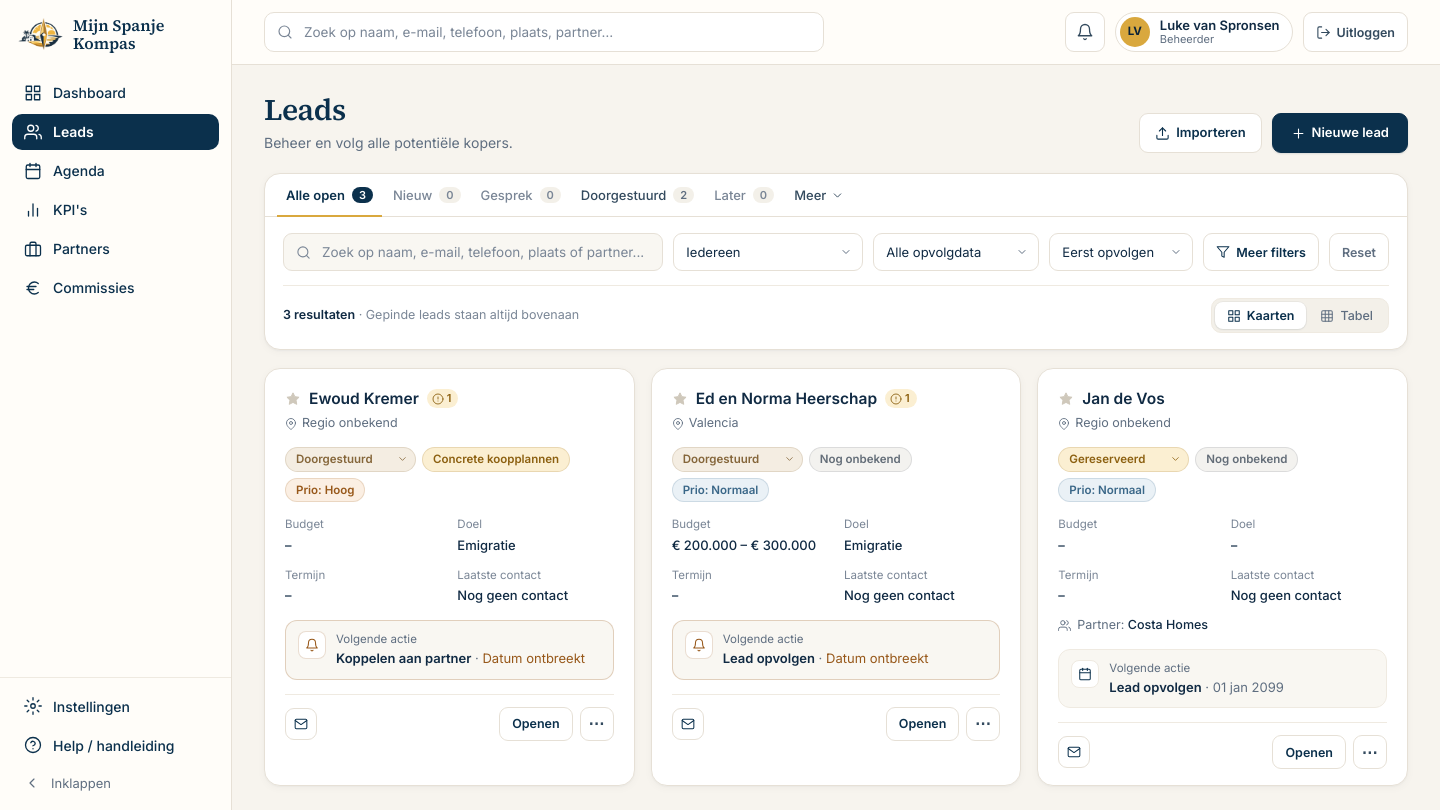
Test: Aankoop afgerond: vastleggen en terugzien onder Commissies
Click the button named "Meer acties voor Jan de Vos".
click(1370, 752)  # box x1=1353 y1=735 x2=1387 y2=769
(page scrolled)
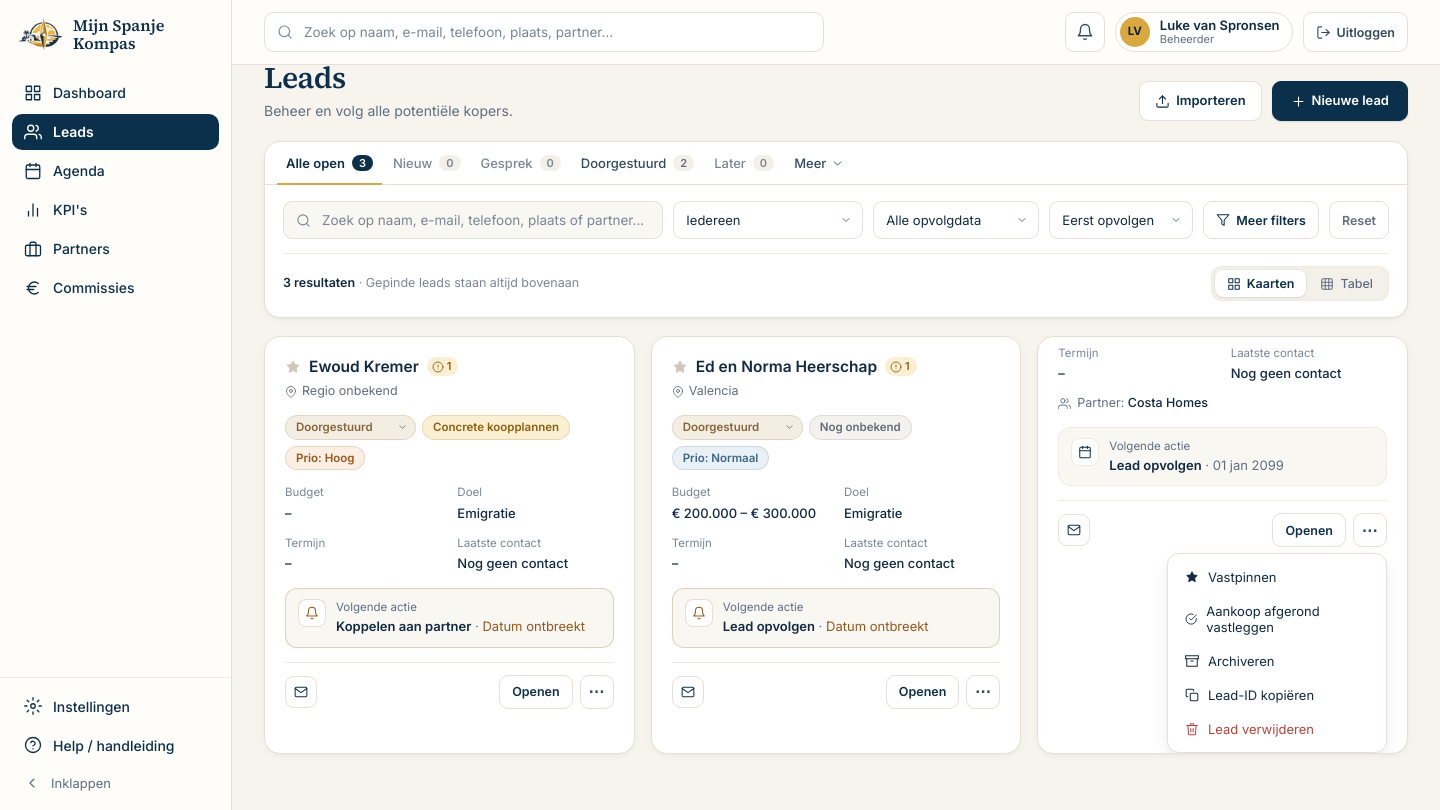
Click the menu item "Aankoop afgerond vastleggen".
click(1277, 619)  # box x1=1174 y1=594 x2=1380 y2=644
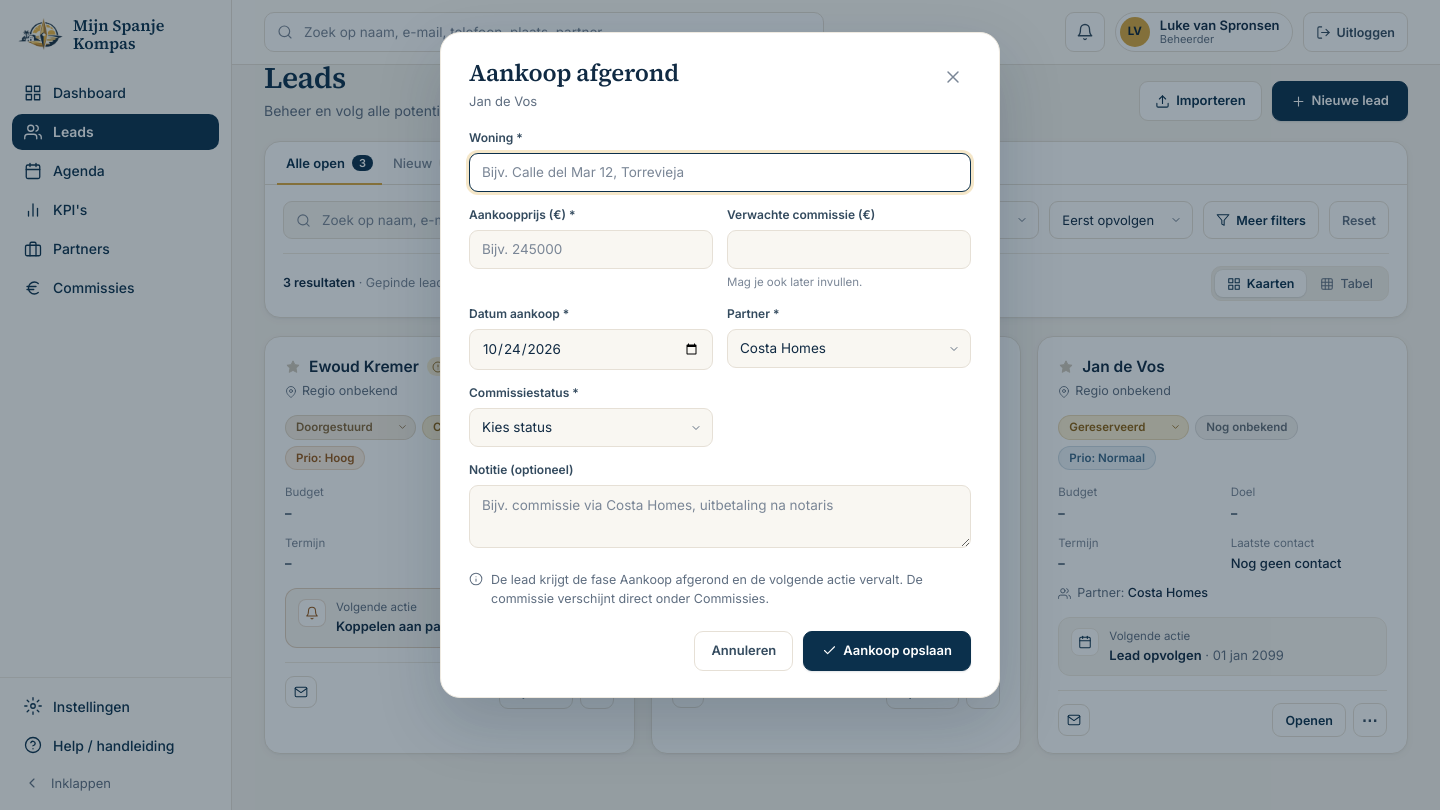
Type "Calle del Mar 12" into the field with placeholder "Bijv. Calle del Mar 12, Torrevieja".
click(720, 173); type("Calle del Mar 12")  # box x1=469 y1=153 x2=971 y2=192
Type "250000" into the number field with placeholder "Bijv. 245000".
click(591, 250); type("250000")  # box x1=469 y1=230 x2=713 y2=269
Select "Verwacht" in the dropdown below "Commissiestatus *" at x=591, y=428, box x1=469 y1=408 x2=713 y2=447
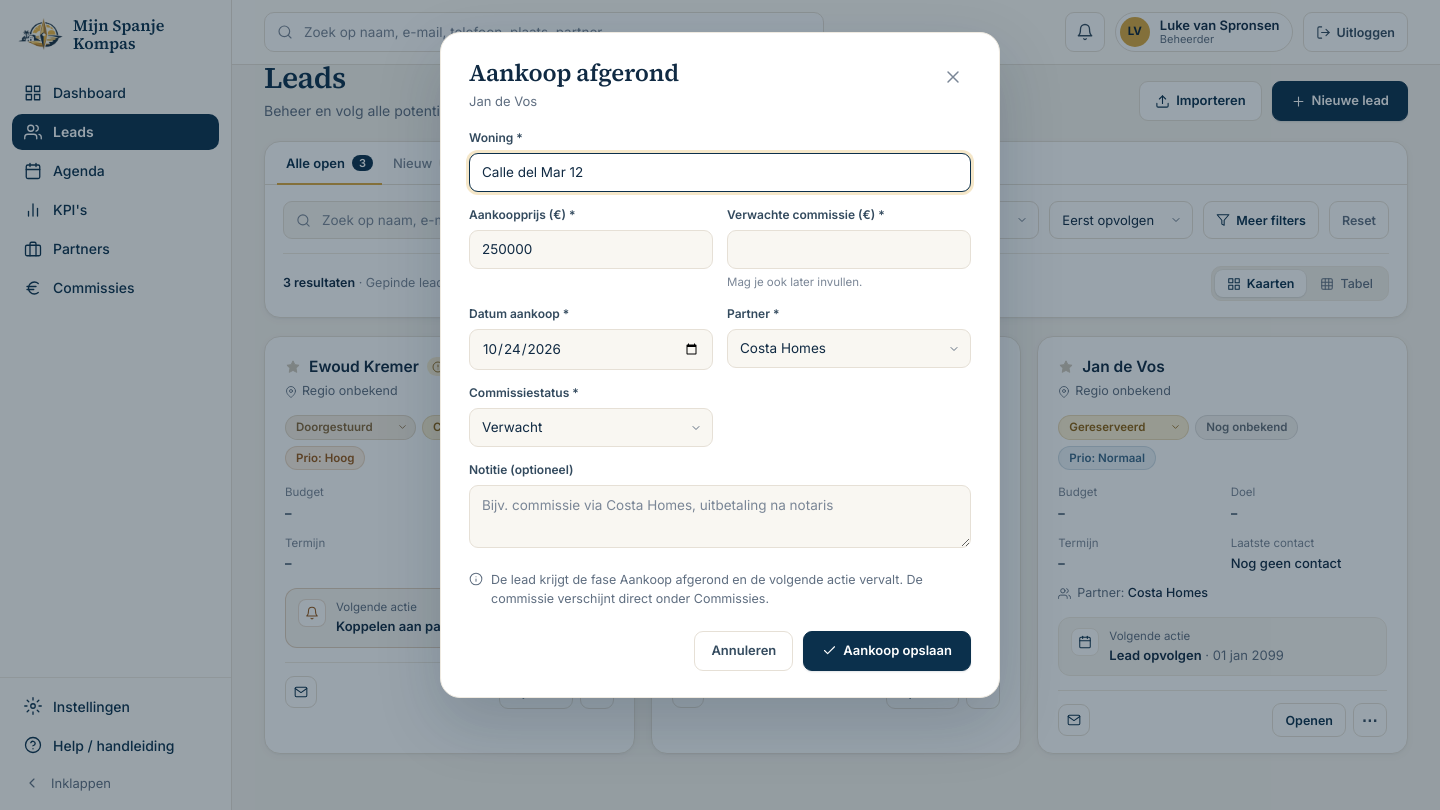
Type "7500" into the number field below "Verwachte commissie (€) *".
click(849, 250); type("7500")  # box x1=727 y1=230 x2=971 y2=269
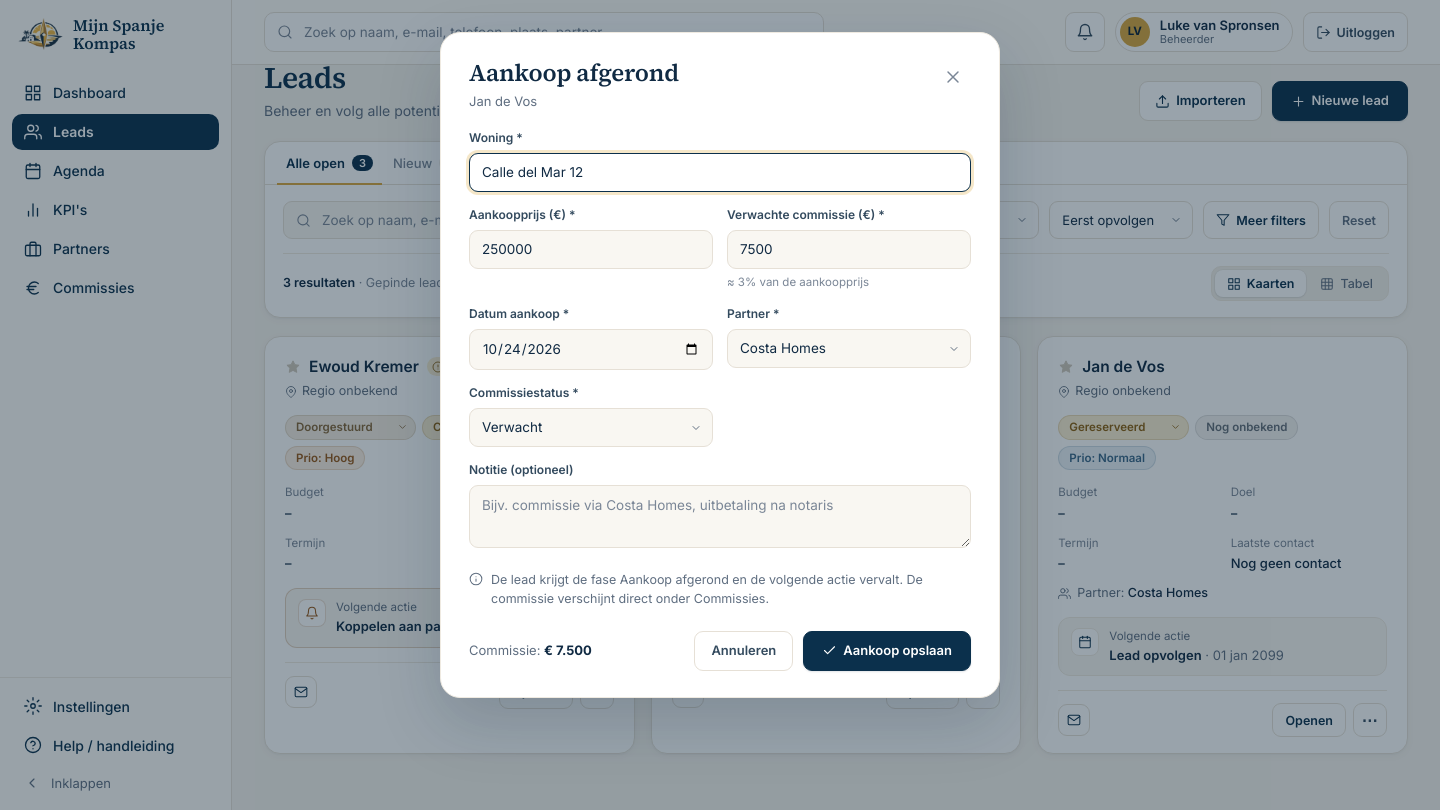
Click the button "Aankoop opslaan".
click(887, 651)  # box x1=803 y1=631 x2=971 y2=671
(page scrolled)
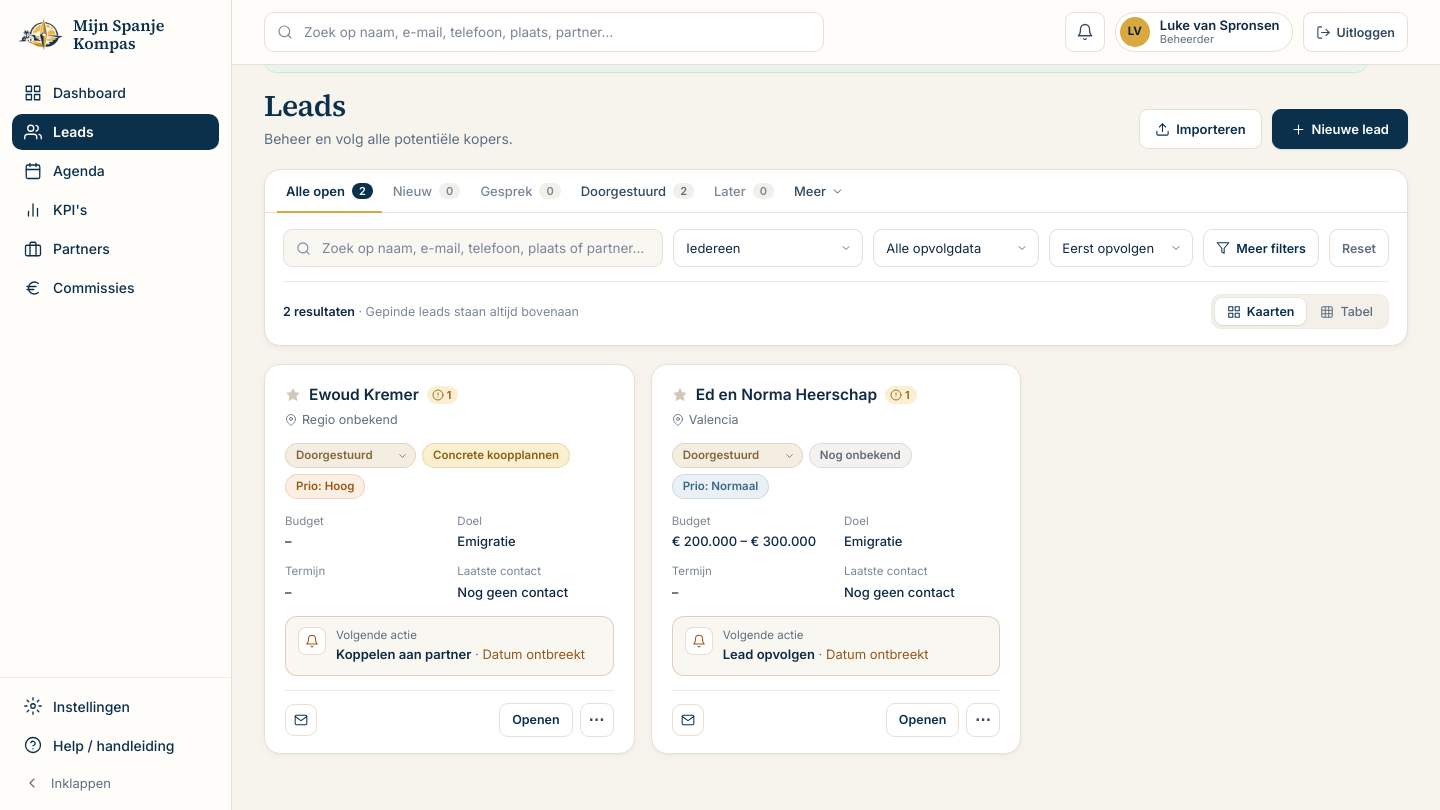
// Commissies-pagina via de hoofdnavigatie
Click the button "Commissies".
click(116, 288)  # box x1=12 y1=270 x2=219 y2=306
(page scrolled)
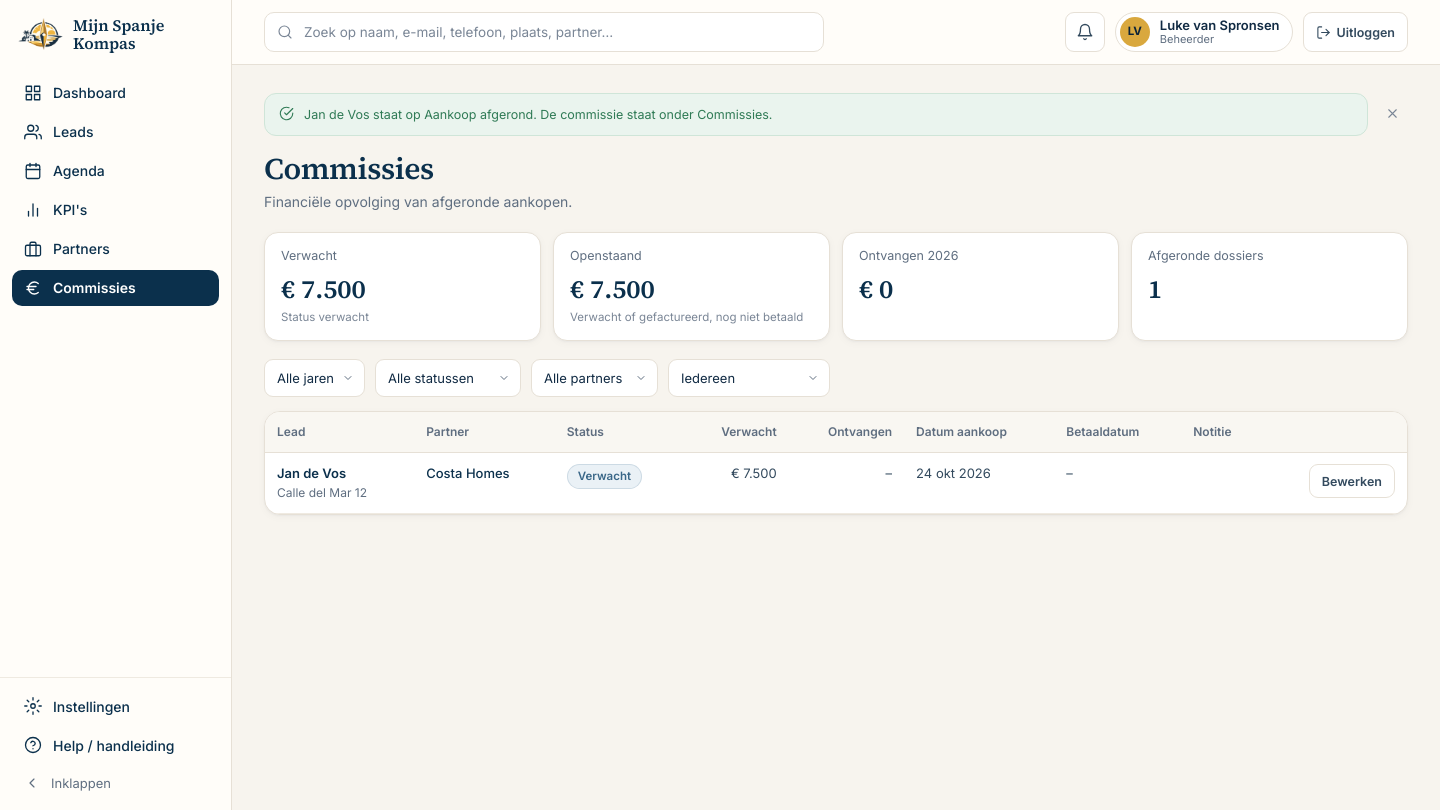
Now the button "Jan de Vos" is shown, box x1=277 y1=465 x2=346 y2=481
Now the 1st text "€ 7.500" is shown, box x1=281 y1=271 x2=366 y2=307
